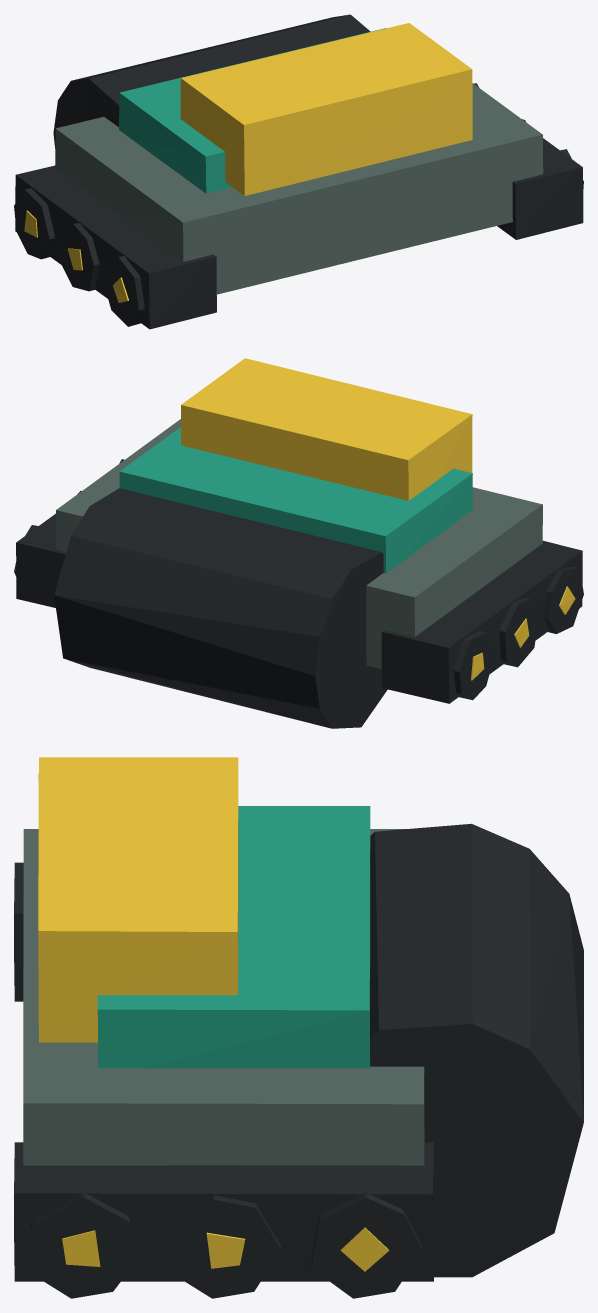
File: SM_Coalition_CO_YuanCollector_LOD3.fbx
The picture shows the model from 3 angles, top to bottom: view 1: azimuth 30°, elevation 25°; view 2: azimuth 150°, elevation 25°; view 3: azimuth 270°, elevation 25°; orthographic projection. The views are drawn at different scales.
Visible parts, largest first — view 1: LOD03_SM_Coalition_CO_YuanCollector; view 2: LOD03_SM_Coalition_CO_YuanCollector; view 3: LOD03_SM_Coalition_CO_YuanCollector.
Boxes of the visible parts, x1,y1,x2,y2 form: LOD03_SM_Coalition_CO_YuanCollector: [14, 14, 583, 329]; LOD03_SM_Coalition_CO_YuanCollector: [14, 358, 583, 728]; LOD03_SM_Coalition_CO_YuanCollector: [14, 757, 583, 1298].
Size of the model in its own units: 563 by 396 by 260.
